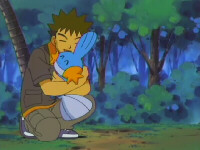mudkip: (48, 31, 96, 87)
